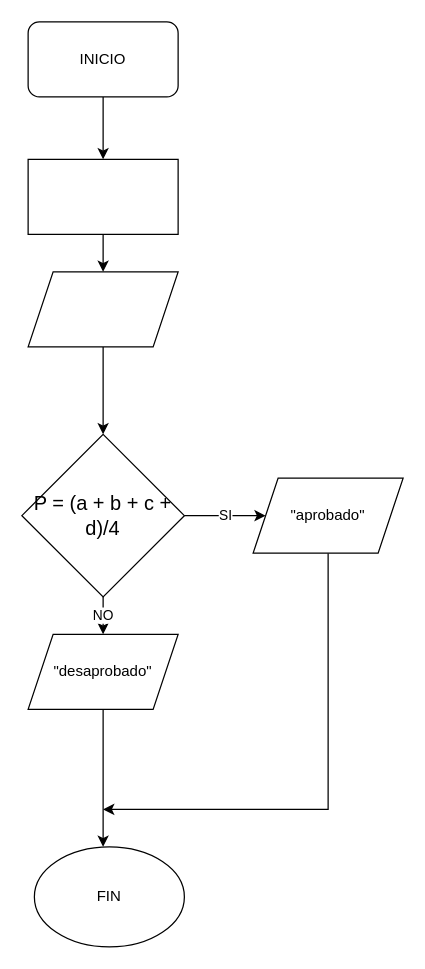
Image size: 425x969. Some labels were removed from this diagram. The shapes that lost their labels are listed below. From the top down, each one's box as (x1, y1, x2, y2) in pixels, then its label:
(27, 158, 178, 234): var nota
(27, 271, 178, 347): ingresar nota
